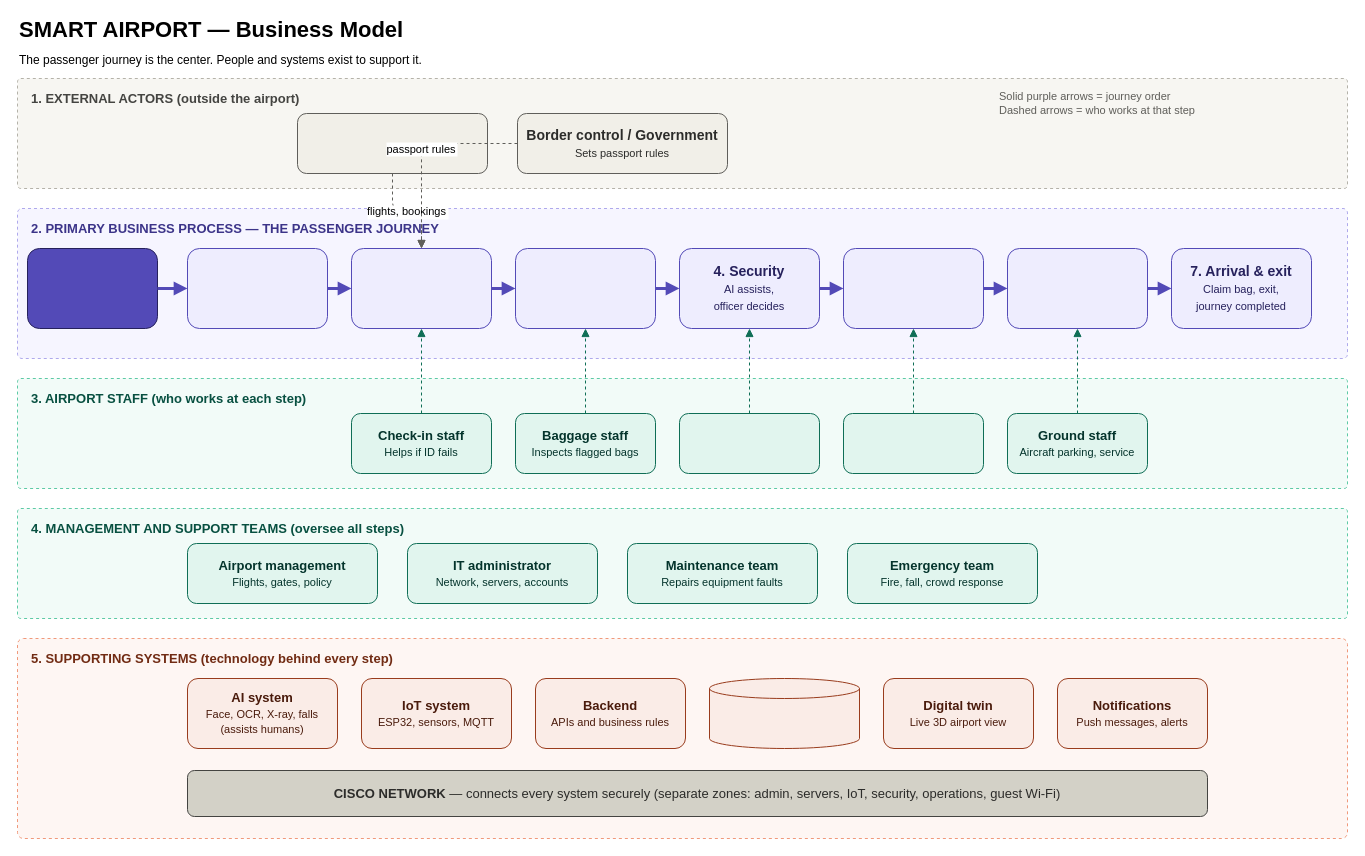
This 1365x856 diagram has some shape labels left out. Each missing label, with the centre of its shape:
1. Entry Arrive, open app, see flight info: (257,288)
2. Check-in & ID Passport scan, face verification: (421,288)
3. Baggage Drop, tag, track, X-ray check: (585,288)
5. Smart gate Verify boarding pass, board aircraft: (913,288)
6. Flight Ground operations monitored: (1077,288)
Airline Provides flights and bookings: (392,143)
Database Protected records: (784,713)
Gate staff Handles boarding issues: (913,443)
PASSENGER Mobile app user: (92,288)
Security officer Final human decision: (749,443)
